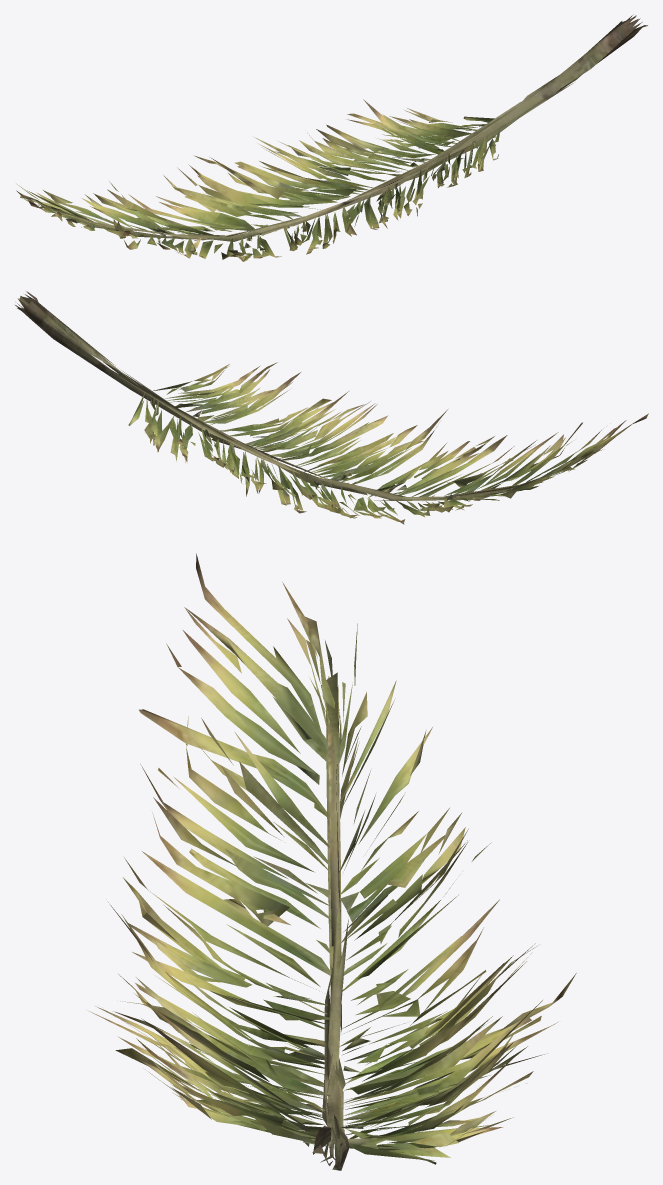
The model's file is palm_frond_green.glb.
3 views of the same model, one above another, from view 1: azimuth 30°, elevation 25°; view 2: azimuth 150°, elevation 25°; view 3: azimuth 270°, elevation 25° (orthographic). The views are drawn at different scales.
Parts seen in each view (by area): view 1: Mesh_0; view 2: Mesh_0; view 3: Mesh_0.
Part boxes in pixels (bbox=[...]): Mesh_0: bbox=[16, 14, 647, 261]; Mesh_0: bbox=[15, 291, 648, 524]; Mesh_0: bbox=[89, 553, 576, 1170].
Size of the model in its own units: 0.9351 by 0.1855 by 0.3323.
Materials: 1 (1 with a texture image).
